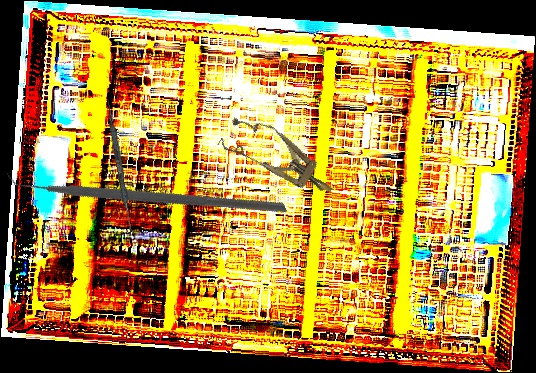Chopper: (1, 57, 288, 318)
Spatula Surgical: (102, 98, 137, 236)
Speculum: (216, 106, 344, 211)
